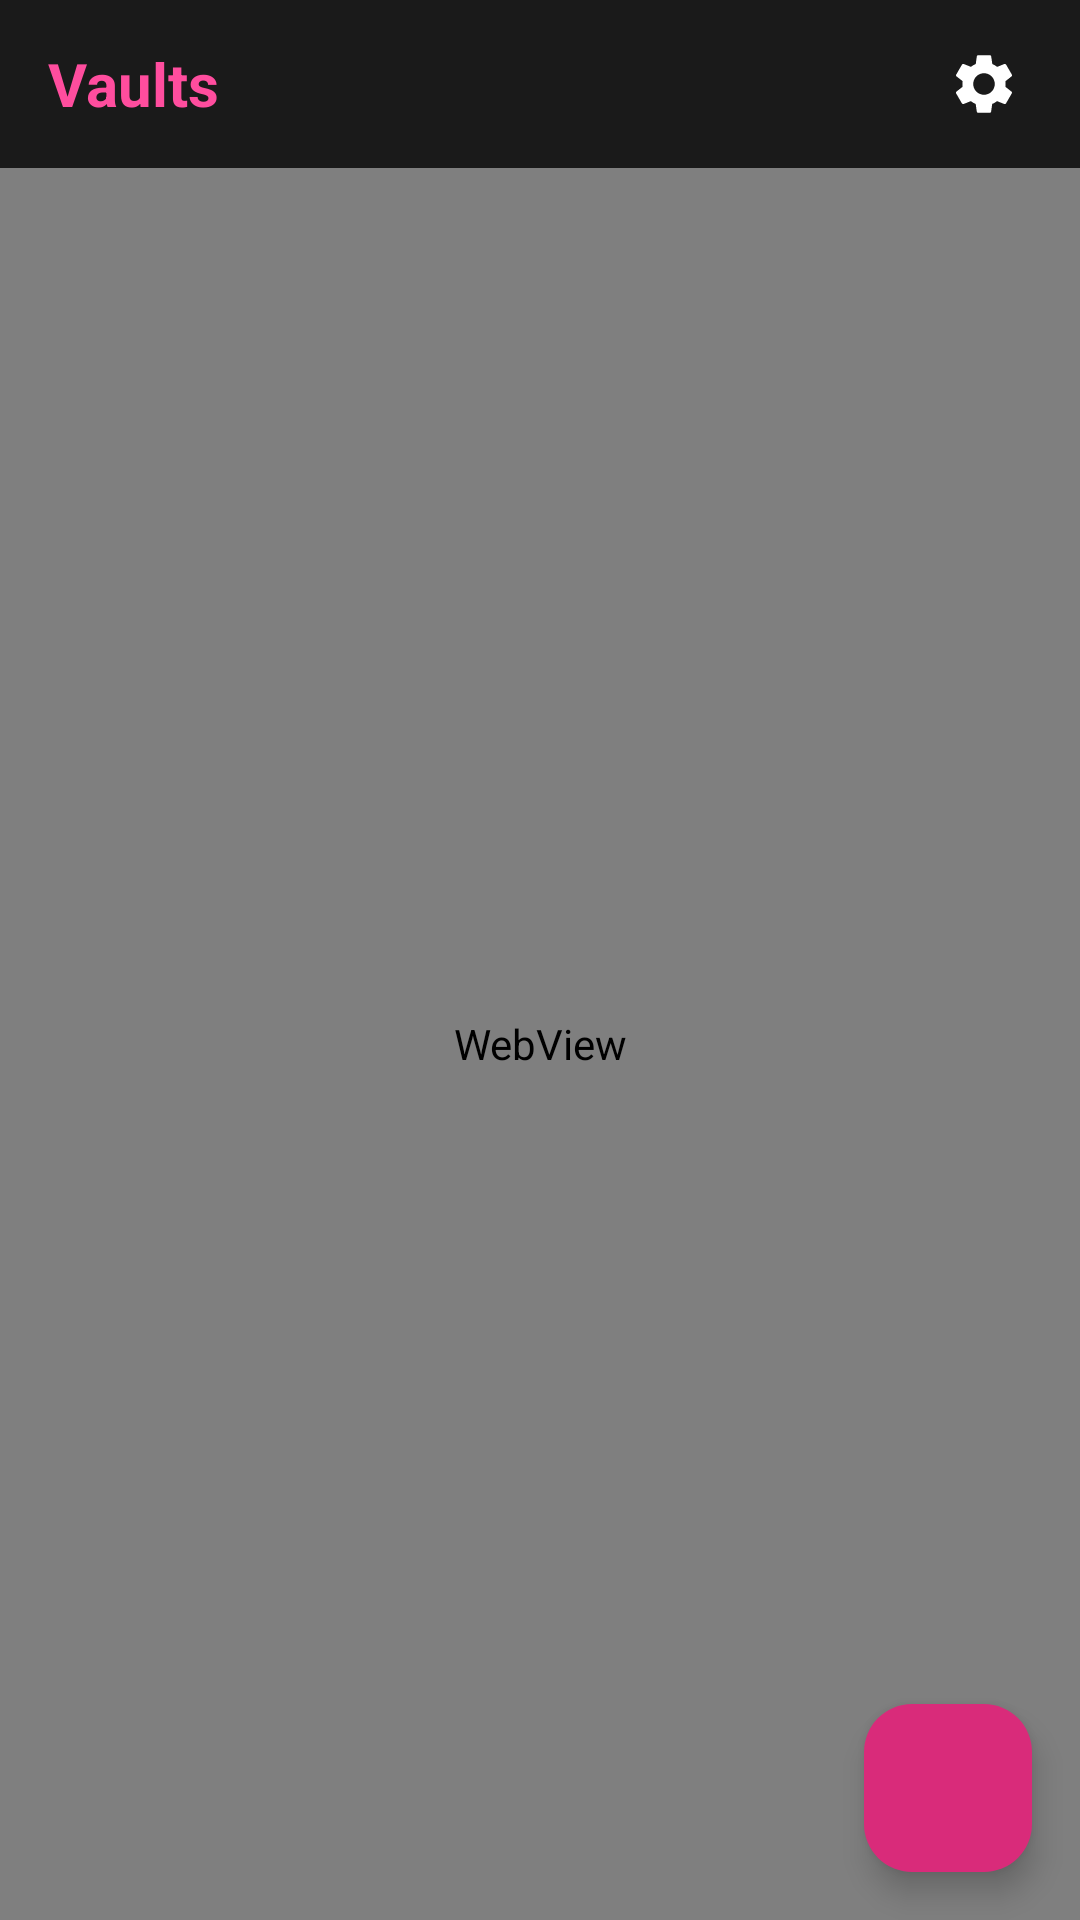

Screen size 1080 × 1920. Icon name, then its center in pixels as point (x, y):
settings: point (984, 84)
